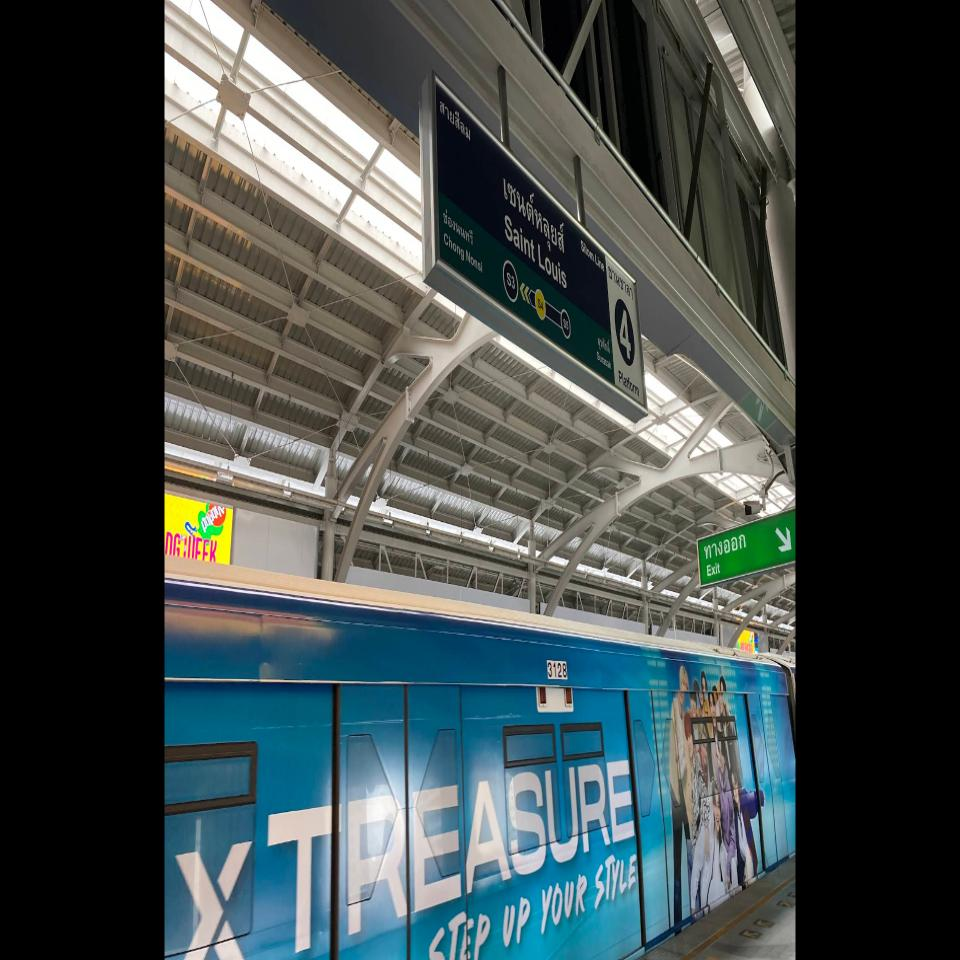Saint Louis: (503, 142, 571, 360)
